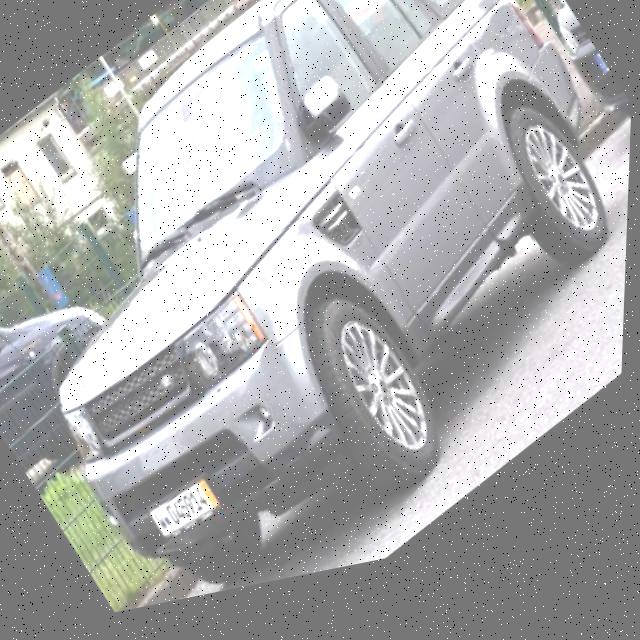license_plate: (153, 479, 226, 554)
